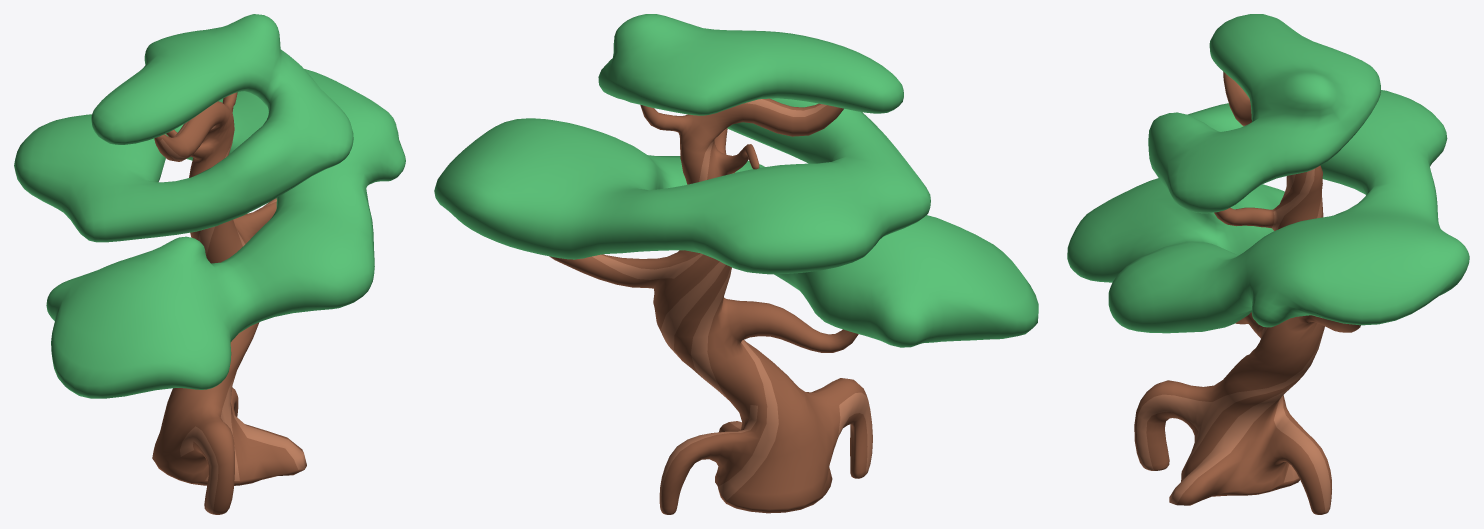
Rendered from TreeGiant_A_02.fbx.
3 views of the same model, side by side, from view 1: azimuth 30°, elevation 25°; view 2: azimuth 150°, elevation 25°; view 3: azimuth 270°, elevation 25° (orthographic). The views are drawn at different scales.
Parts seen in each view (by area): view 1: TreeGiant_A_02_LOD0; view 2: TreeGiant_A_02_LOD0; view 3: TreeGiant_A_02_LOD0.
Boxes of the visible parts, x1,y1,x2,y2 form: TreeGiant_A_02_LOD0: (14, 14, 405, 514); TreeGiant_A_02_LOD0: (434, 14, 1038, 514); TreeGiant_A_02_LOD0: (1067, 14, 1469, 514).
Size of what is drawn, in the model's own units: 1889 by 1836 by 1483.
